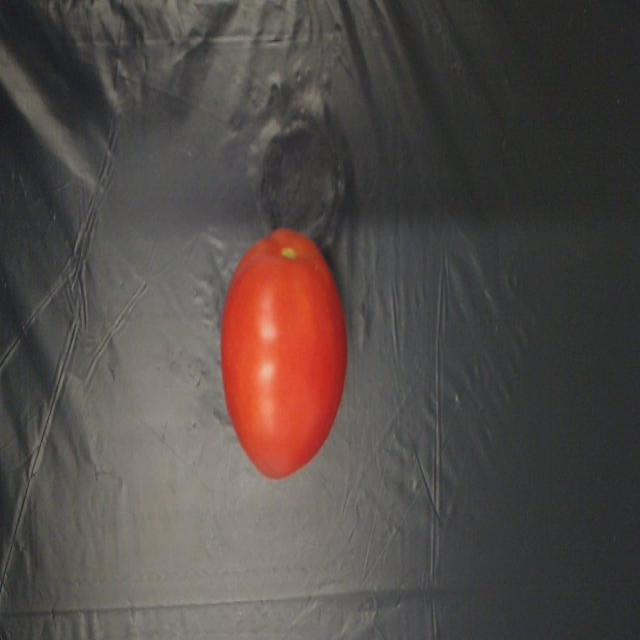kirmizi: (222, 227, 347, 482)
